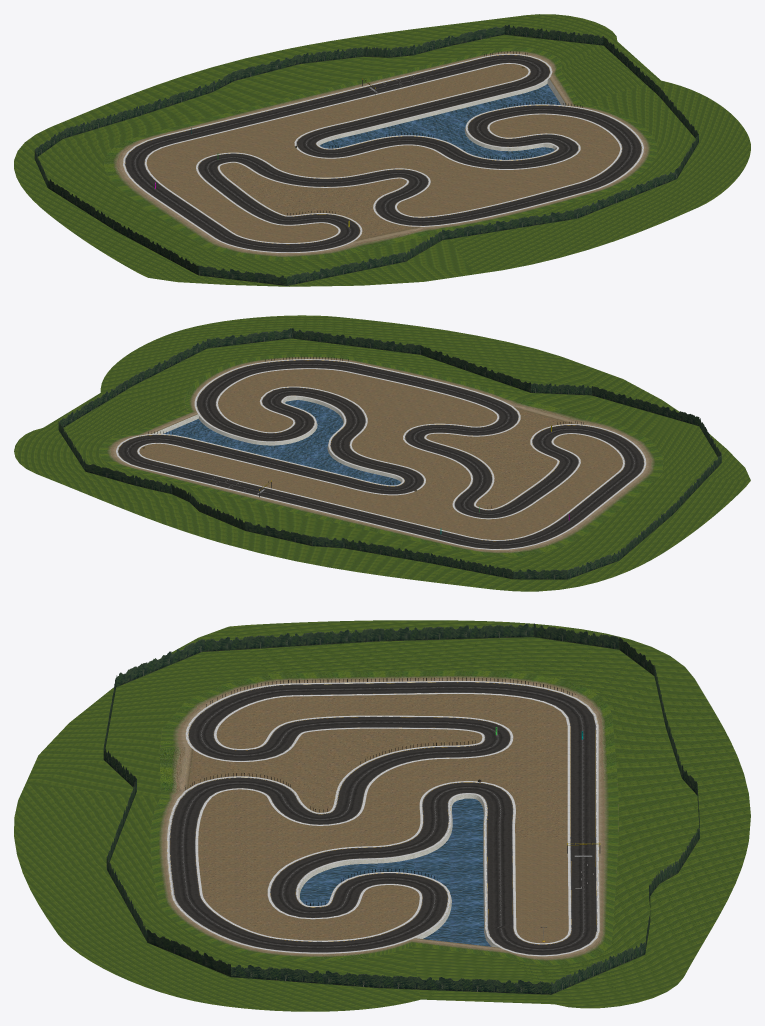
File: Drift Tracks.fbx
The picture shows the model from 3 angles, top to bottom: view 1: azimuth 30°, elevation 25°; view 2: azimuth 150°, elevation 25°; view 3: azimuth 270°, elevation 25°; orthographic projection. The views are drawn at different scales.
Visible parts, largest first — view 1: Ground.01, Ground 2, Drift Track, Plane, Grass edge, Kerbs, water, Pond Bench; view 2: Ground.01, Ground 2, Drift Track, Plane, Grass edge, Kerbs, water, Pond Bench; view 3: Ground.01, Ground 2, Drift Track, Grass edge, Plane, Kerbs, water, Pond Bench, Fence.
Part boxes in pixels (bbox=[...]): Ground.01: bbox=[14, 14, 750, 286]; Ground 2: bbox=[147, 64, 619, 242]; Drift Track: bbox=[125, 55, 641, 251]; Plane: bbox=[34, 24, 698, 285]; Grass edge: bbox=[104, 47, 657, 261]; Kerbs: bbox=[123, 53, 643, 252]; water: bbox=[320, 84, 560, 159]; Pond Bench: bbox=[318, 78, 566, 151]; Ground.01: bbox=[14, 315, 750, 591]; Ground 2: bbox=[139, 369, 622, 539]; Drift Track: bbox=[118, 360, 643, 548]; Plane: bbox=[58, 328, 721, 579]; Grass edge: bbox=[98, 354, 663, 556]; Kerbs: bbox=[116, 359, 646, 549]; water: bbox=[164, 400, 400, 485]; Pond Bench: bbox=[152, 396, 402, 482]; Ground.01: bbox=[14, 620, 750, 1011]; Ground 2: bbox=[188, 694, 568, 943]; Drift Track: bbox=[170, 682, 596, 954]; Grass edge: bbox=[150, 670, 618, 965]; Plane: bbox=[103, 623, 699, 994]; Kerbs: bbox=[167, 680, 599, 956]; water: bbox=[300, 798, 490, 946]; Pond Bench: bbox=[298, 794, 499, 947]; Fence: bbox=[185, 677, 575, 905].
Bounding box in the file's own units: 43067 × 1059 × 34252.
14 materials, 14 textured.
